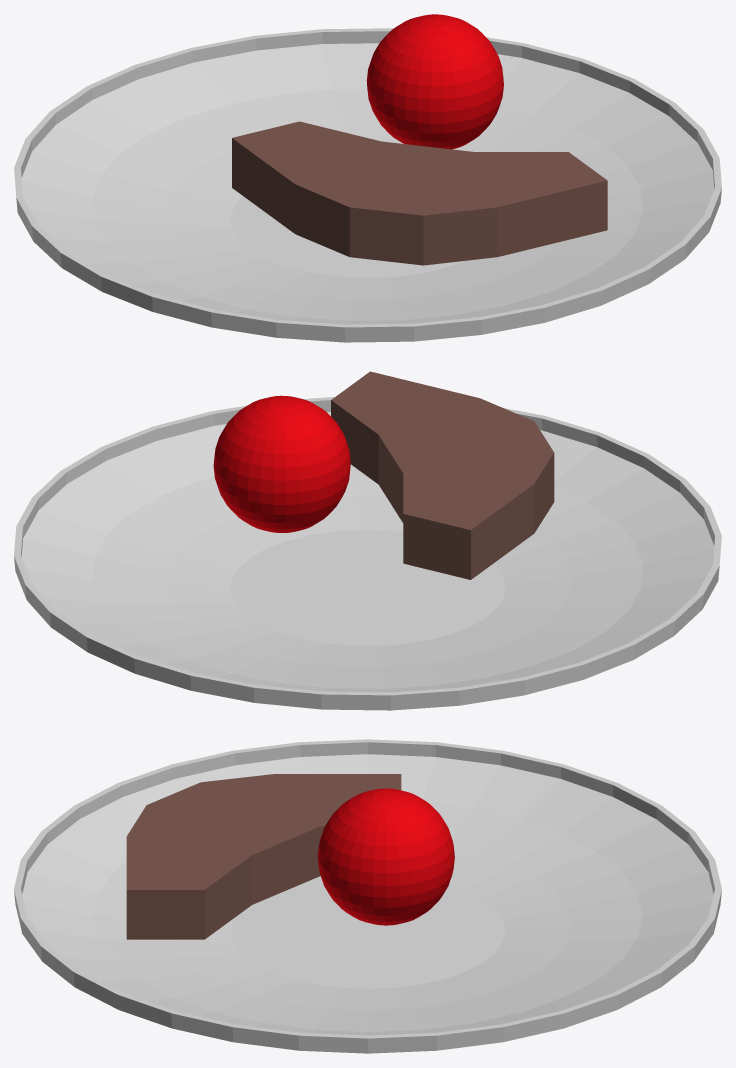
The model's file is Food.glb.
3 views of the same model, one above another, from view 1: azimuth 30°, elevation 25°; view 2: azimuth 150°, elevation 25°; view 3: azimuth 270°, elevation 25° (orthographic).
Visible parts, largest first — view 1: Plate -convcol, Steak Vis, Apple Vis; view 2: Plate -convcol, Steak Vis, Apple Vis; view 3: Plate -convcol, Steak Vis, Apple Vis.
Boxes of the visible parts, x1=… form: Plate -convcol: x1=14, y1=28, x2=721, y2=342; Steak Vis: x1=232, y1=121, x2=607, y2=265; Apple Vis: x1=366, y1=14, x2=503, y2=149; Plate -convcol: x1=14, y1=397, x2=721, y2=710; Steak Vis: x1=331, y1=371, x2=554, y2=579; Apple Vis: x1=213, y1=395, x2=350, y2=532; Plate -convcol: x1=14, y1=739, x2=721, y2=1053; Steak Vis: x1=126, y1=774, x2=401, y2=939; Apple Vis: x1=317, y1=788, x2=454, y2=925.
Size of what is drawn, in the model's own units: 5.16 by 1.44 by 5.16.
